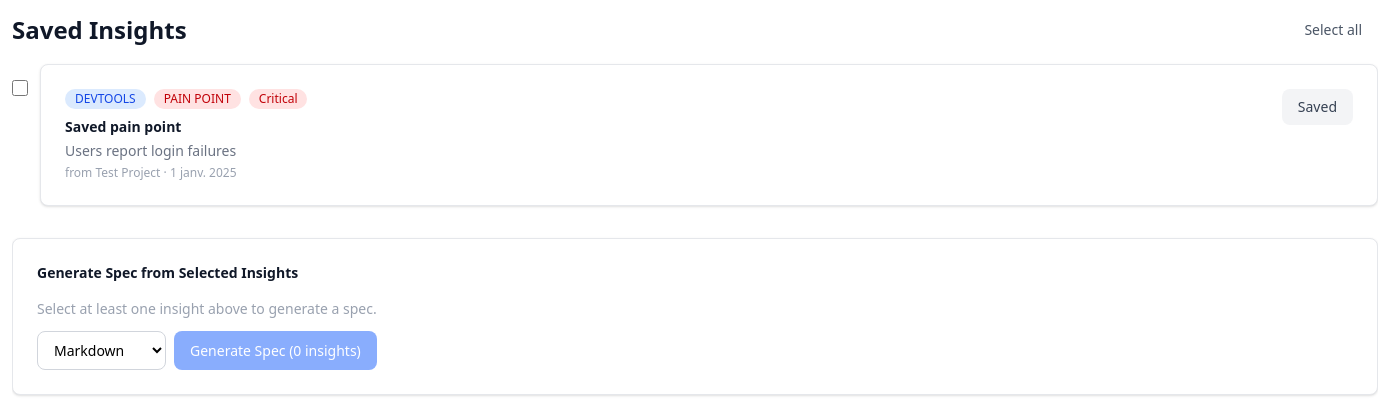
Test: SavedInsights › Generate button states › generate button enabled after selecting an insight
Click the checkbox. click: [20, 88]
box: x1=12 y1=80 x2=28 y2=96
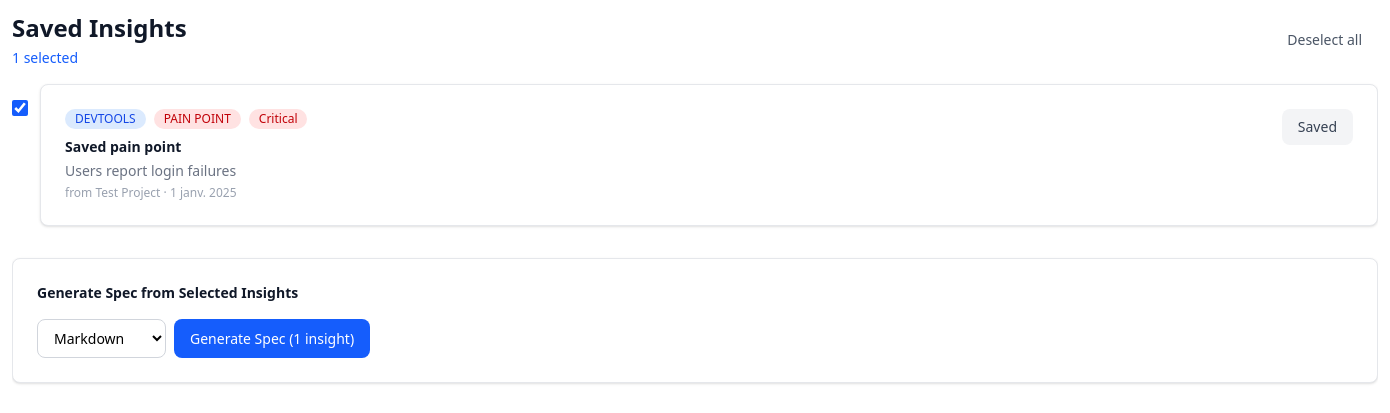
Result: the button "Generate Spec (1 insight)" is enabled at x1=174 y1=319 x2=370 y2=358
